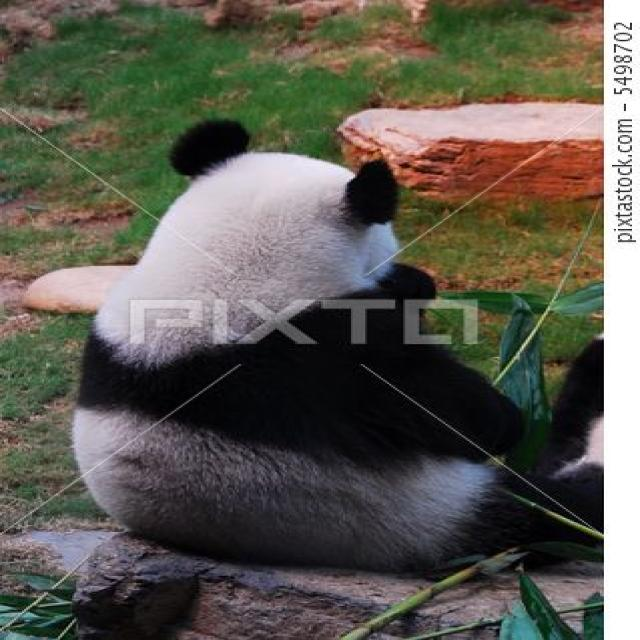panda: (62, 117, 618, 572)
